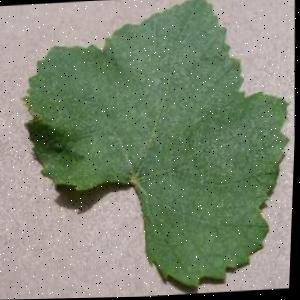Folha: (11, 0, 300, 300)
